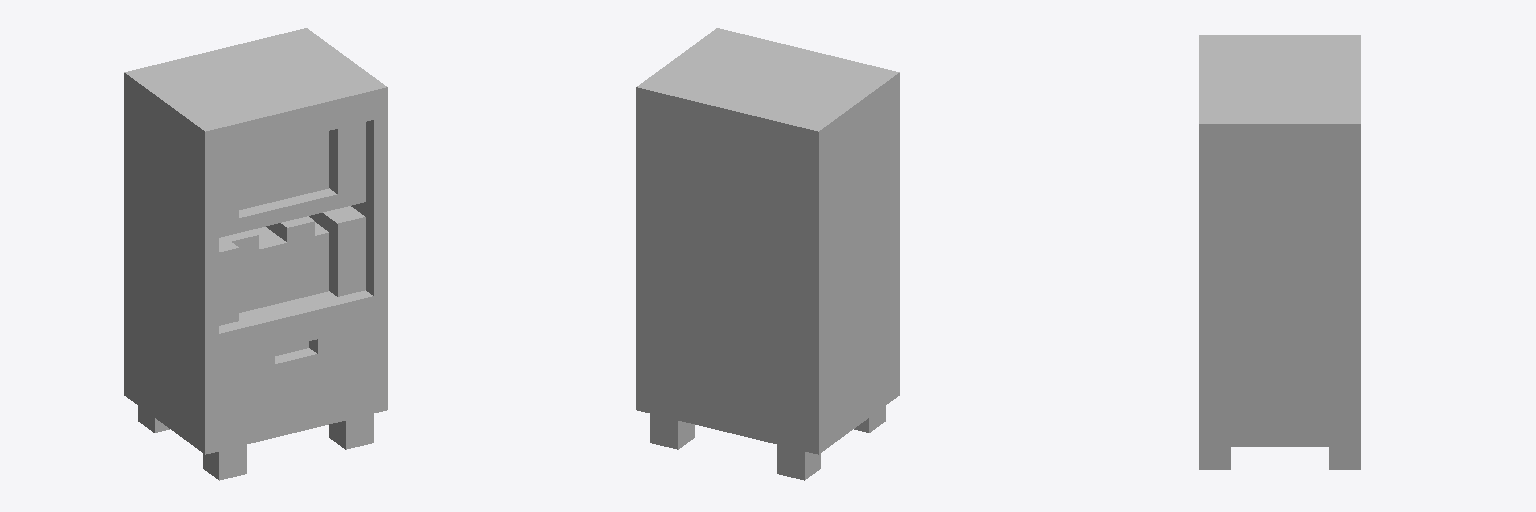
The model's file is House Interior Rooms - Free Sample-0.obj.
3 views of the same model, side by side, from view 1: azimuth 30°, elevation 25°; view 2: azimuth 150°, elevation 25°; view 3: azimuth 270°, elevation 25° (orthographic).
Visible parts, largest first — view 1: object 1; view 2: object 1; view 3: object 1.
Boxes of the visible parts, box(x1,y1,x2,y2) form: object 1: box(124, 28, 387, 480); object 1: box(636, 28, 899, 480); object 1: box(1199, 35, 1360, 469).
Size of the model in its own units: 0.26 by 0.48 by 0.2.